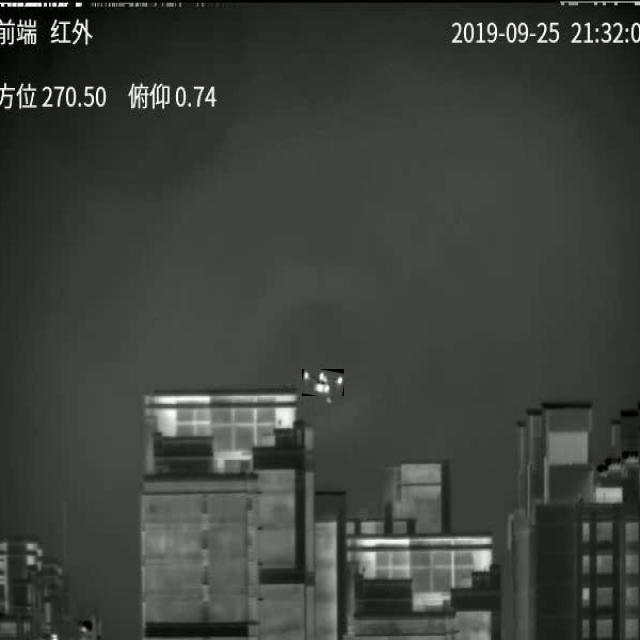drone: (303, 369, 344, 396)
